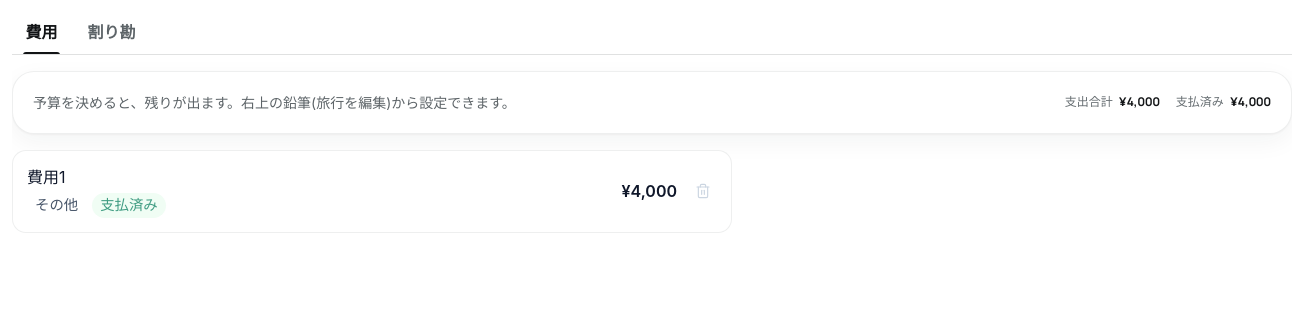
Scenario: 費用の一覧: 支払った人と割り勘 › 誰が払ったかがまだ1つも無ければ、入れ方だけ知らせる
Click the tab "割り勘".
click(111, 33)  # box [74,12,149,54]
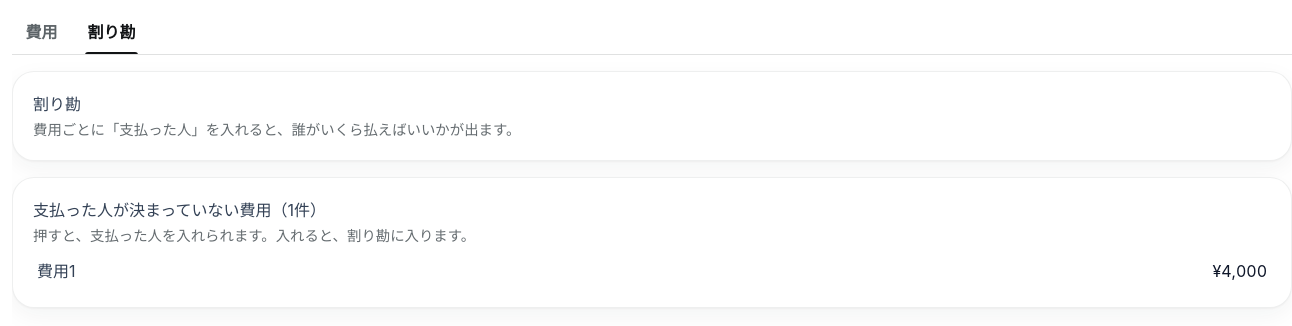
Check: the element labelled "割り勘" shows "「支払った人」を入れると", box [33,121,520,138]
